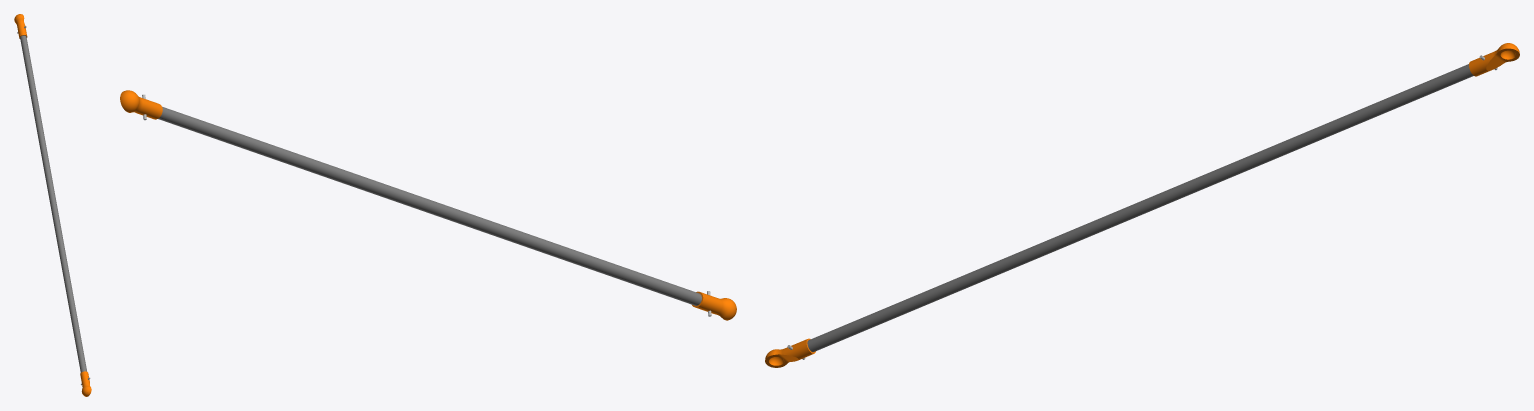
3 views of the same model, side by side, from view 1: azimuth 30°, elevation 25°; view 2: azimuth 150°, elevation 25°; view 3: azimuth 270°, elevation 25° (orthographic). The views are drawn at different scales.
Parts seen in each view (by area): view 1: IRB360_6-1600-STD-4D_rev03_LA2_1_CAD.step1; view 2: IRB360_6-1600-STD-4D_rev03_LA2_1_CAD.step1; view 3: IRB360_6-1600-STD-4D_rev03_LA2_1_CAD.step1.
Part boxes in pixels (x1=…): IRB360_6-1600-STD-4D_rev03_LA2_1_CAD.step1: x1=14, y1=14, x2=91, y2=396; IRB360_6-1600-STD-4D_rev03_LA2_1_CAD.step1: x1=120, y1=90, x2=736, y2=320; IRB360_6-1600-STD-4D_rev03_LA2_1_CAD.step1: x1=765, y1=43, x2=1519, y2=367.
Size of the model in its own units: 0.3477 by 0.5911 by 0.9214.
